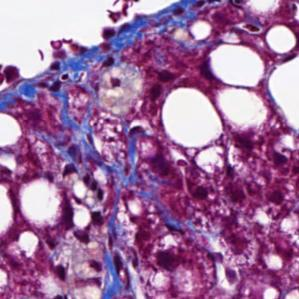inflammation: (59, 158, 109, 204)
